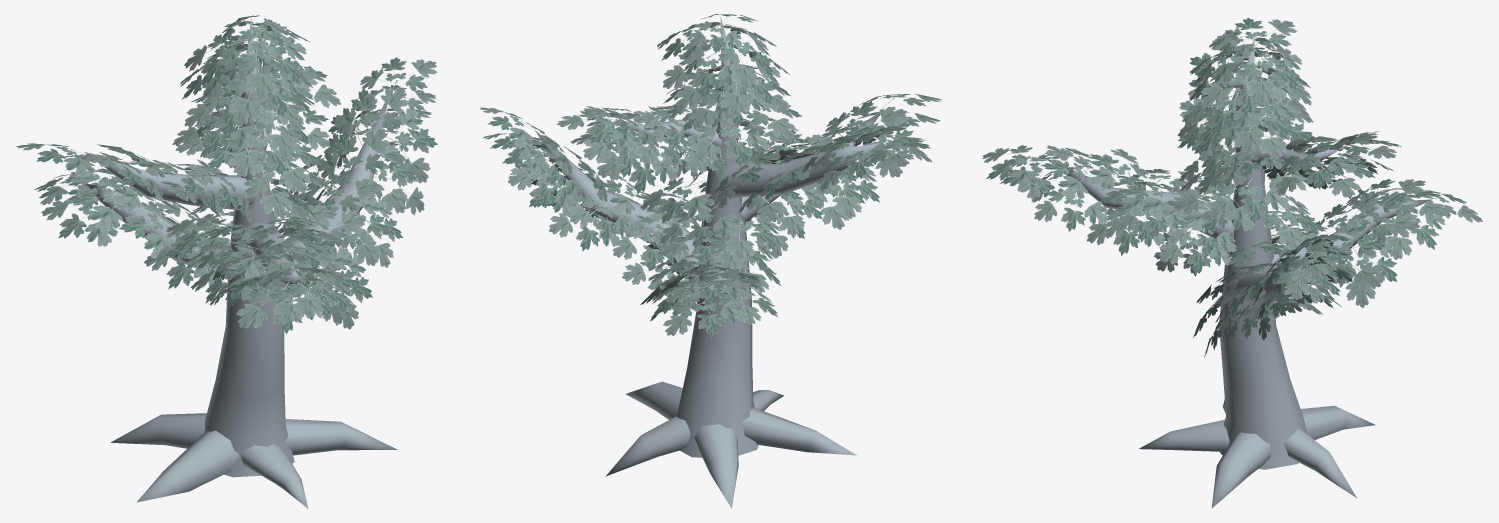
The model's file is tree.FBX.
3 views of the same model, side by side, from view 1: azimuth 30°, elevation 25°; view 2: azimuth 150°, elevation 25°; view 3: azimuth 270°, elevation 25° (orthographic). The views are drawn at different scales.
Visible parts, largest first — view 1: Tree; view 2: Tree; view 3: Tree.
Boxes of the visible parts, x1,y1,x2,y2 form: Tree: (16, 15, 438, 508); Tree: (480, 14, 941, 508); Tree: (982, 17, 1482, 508).
Bounding box in the file's own units: 308 × 303 × 324.
